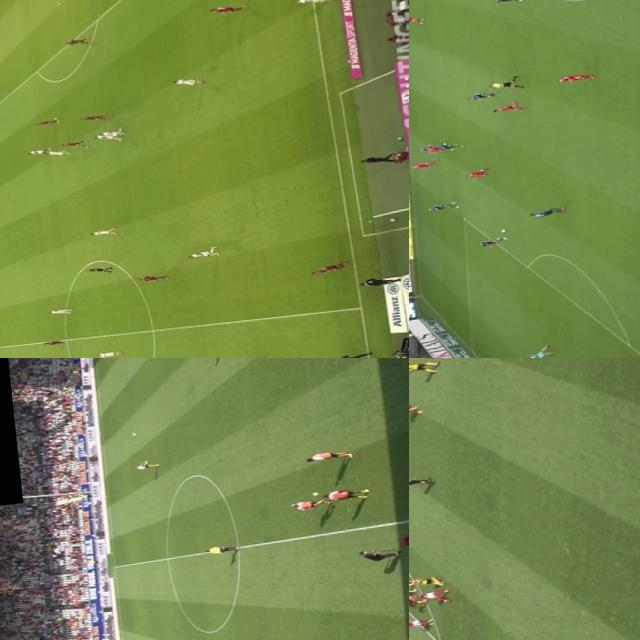ball: (492, 225, 511, 234), (306, 488, 322, 496), (129, 430, 138, 434)
player: (322, 486, 374, 499), (304, 448, 352, 462), (488, 100, 528, 116), (206, 1, 246, 16), (310, 260, 352, 274), (553, 70, 598, 83), (409, 586, 450, 600), (524, 203, 564, 217), (170, 74, 204, 88), (523, 343, 554, 358), (409, 358, 437, 374), (423, 198, 458, 210), (409, 574, 444, 586), (286, 498, 324, 509), (190, 244, 222, 257), (460, 167, 490, 180), (464, 90, 494, 102), (77, 110, 106, 122), (476, 236, 506, 247), (137, 272, 167, 282), (409, 614, 429, 629), (32, 115, 59, 126), (94, 132, 123, 142), (94, 348, 121, 358), (409, 160, 436, 170), (64, 36, 90, 46), (130, 460, 156, 470), (88, 227, 116, 236), (60, 138, 86, 147), (25, 146, 51, 155), (40, 337, 68, 345), (409, 11, 426, 24), (100, 127, 124, 135), (46, 306, 70, 314), (439, 142, 463, 150), (489, 0, 526, 5), (420, 142, 442, 150), (427, 144, 451, 151), (293, 0, 334, 4), (45, 149, 69, 155), (409, 597, 421, 608), (409, 402, 420, 412), (234, 355, 267, 358)
